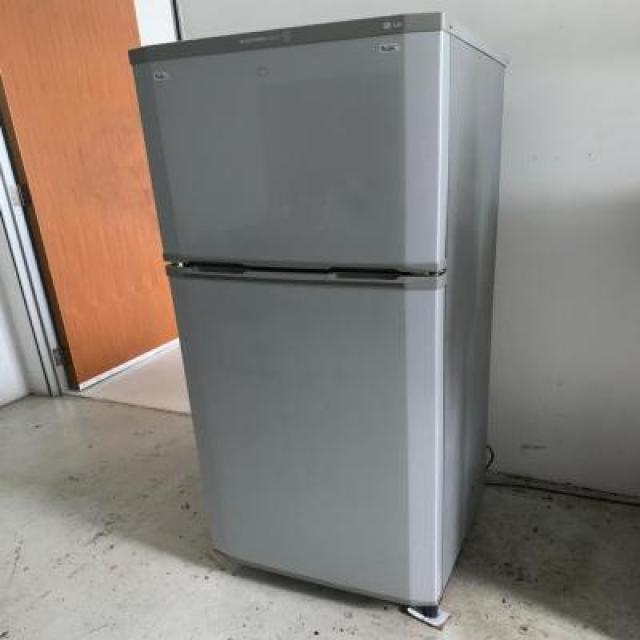refrigerator: (128, 10, 450, 612)
